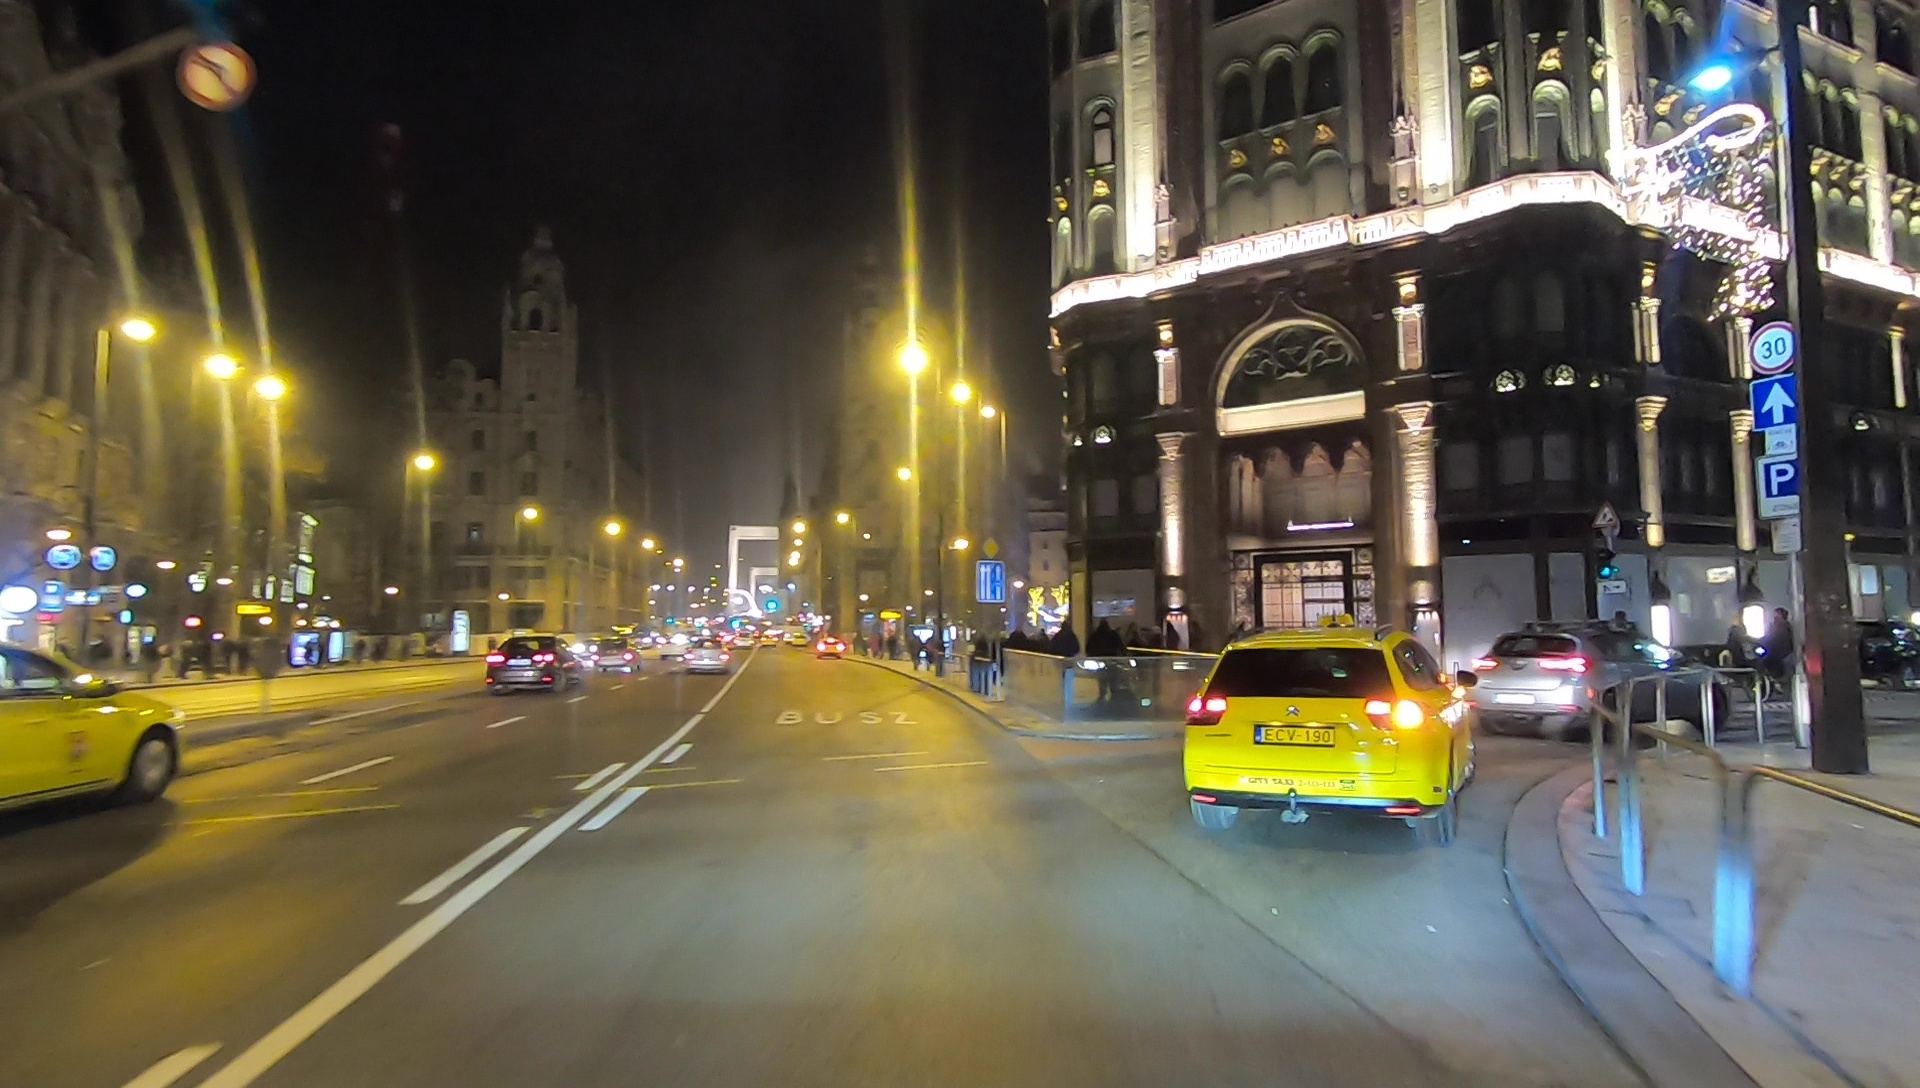person: (140, 636, 161, 685), (176, 634, 194, 683), (197, 633, 213, 679), (219, 635, 236, 680), (908, 632, 922, 674), (925, 632, 939, 669)
